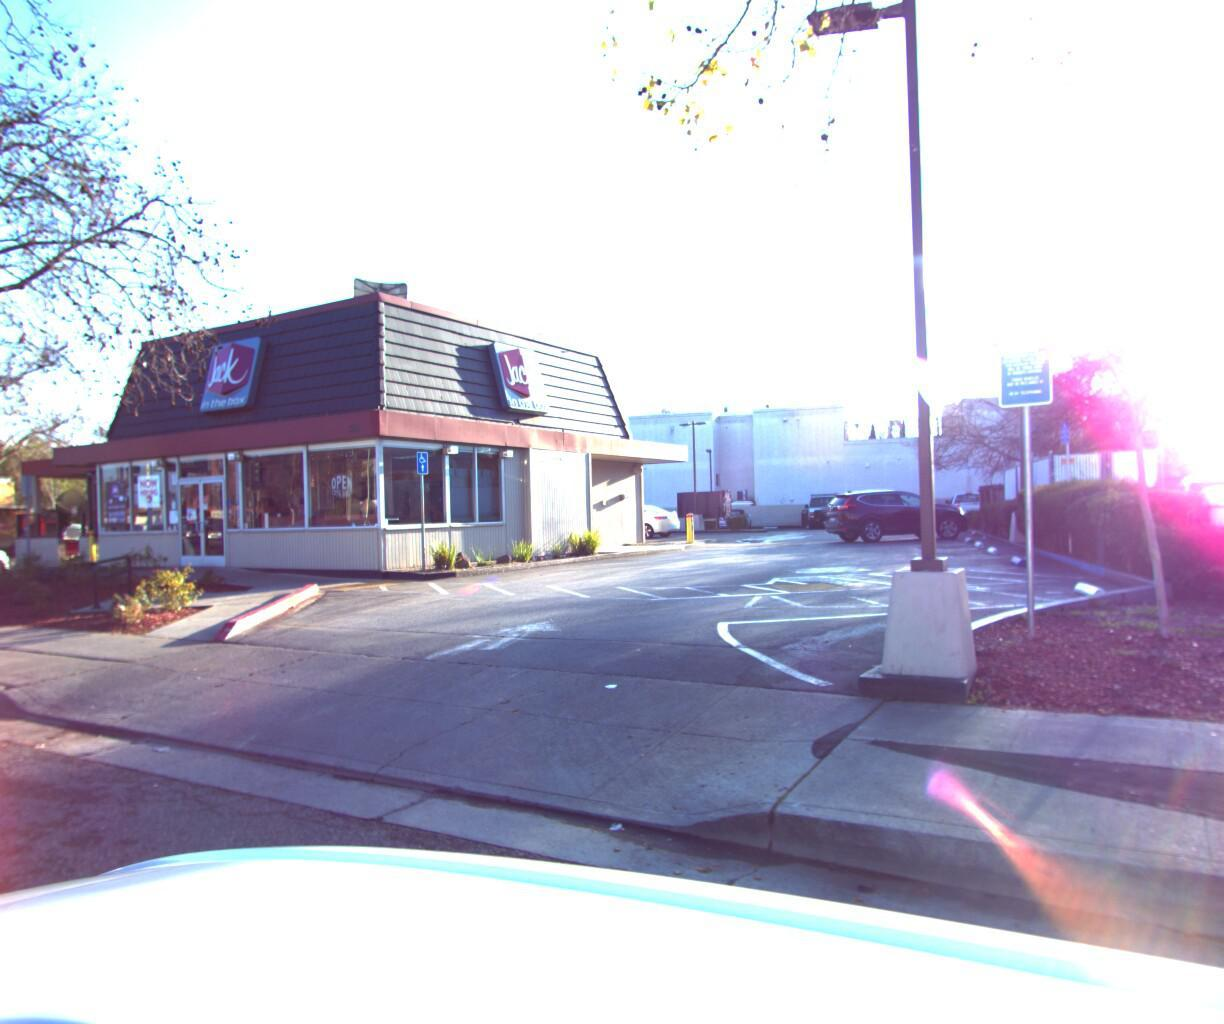car: (1152, 454, 1224, 570), (0, 527, 20, 579)
